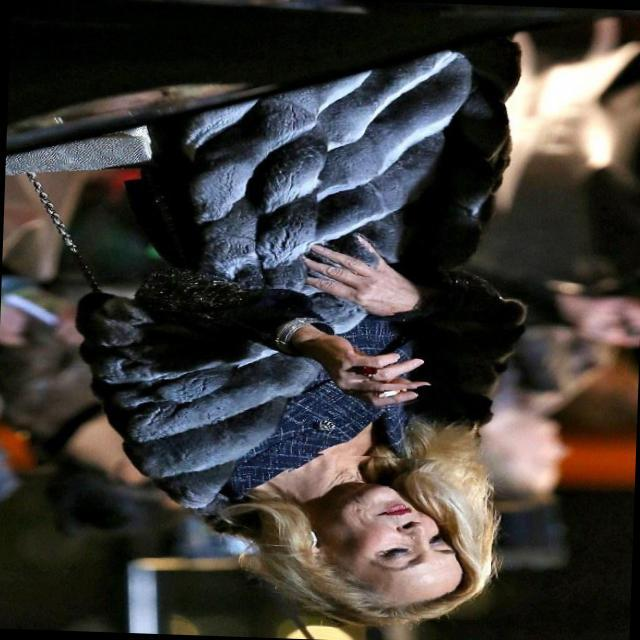cigarette: (340, 383, 434, 412)
